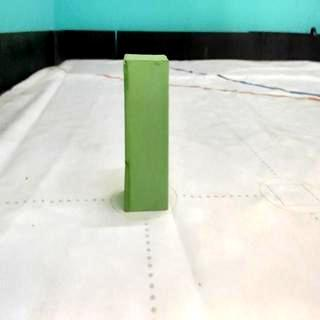greenbox: (122, 51, 169, 212)
